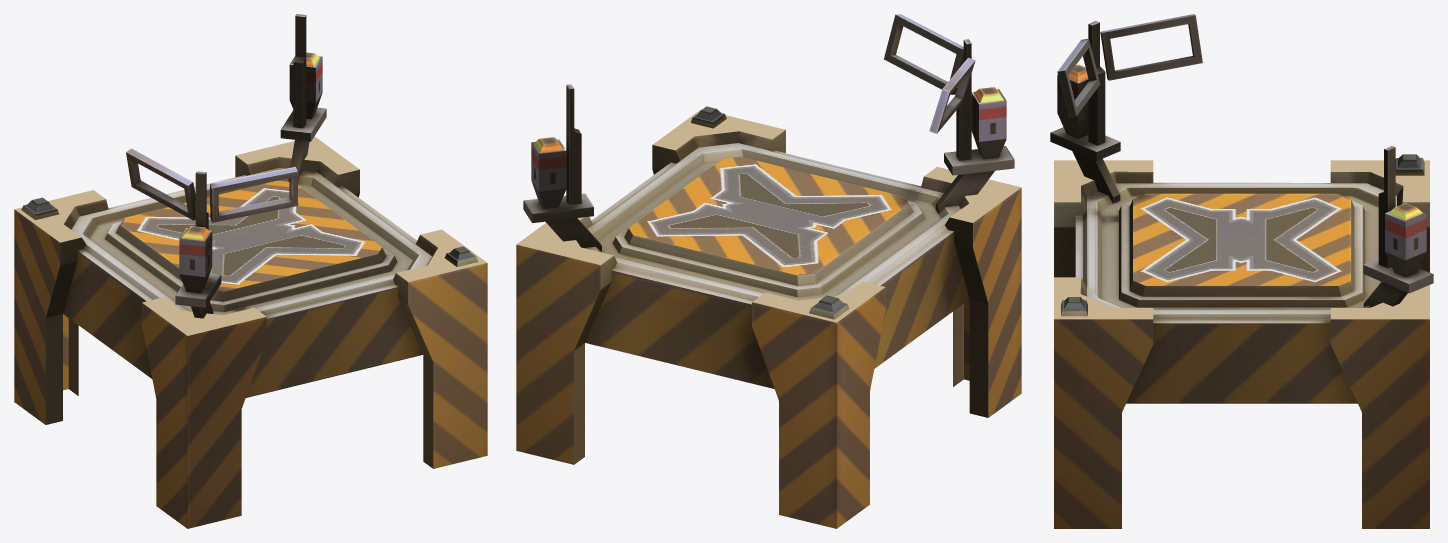
File: S_037_airsup.fbx
3 renders of one model, left to right at view 1: azimuth 30°, elevation 25°; view 2: azimuth 150°, elevation 25°; view 3: azimuth 270°, elevation 25°, orthographic. The views are drawn at different scales.
Visible parts, largest first — view 1: S_037_airsup; view 2: S_037_airsup; view 3: S_037_airsup.
Boxes of the visible parts, left/top/right/bottom form: S_037_airsup: left=14, top=14, right=487, bottom=528; S_037_airsup: left=516, top=14, right=1021, bottom=528; S_037_airsup: left=1050, top=14, right=1433, bottom=528.
Size of the model in its own units: 1.03 by 1.08 by 1.03.
Materials: 1 (1 with a texture image).
